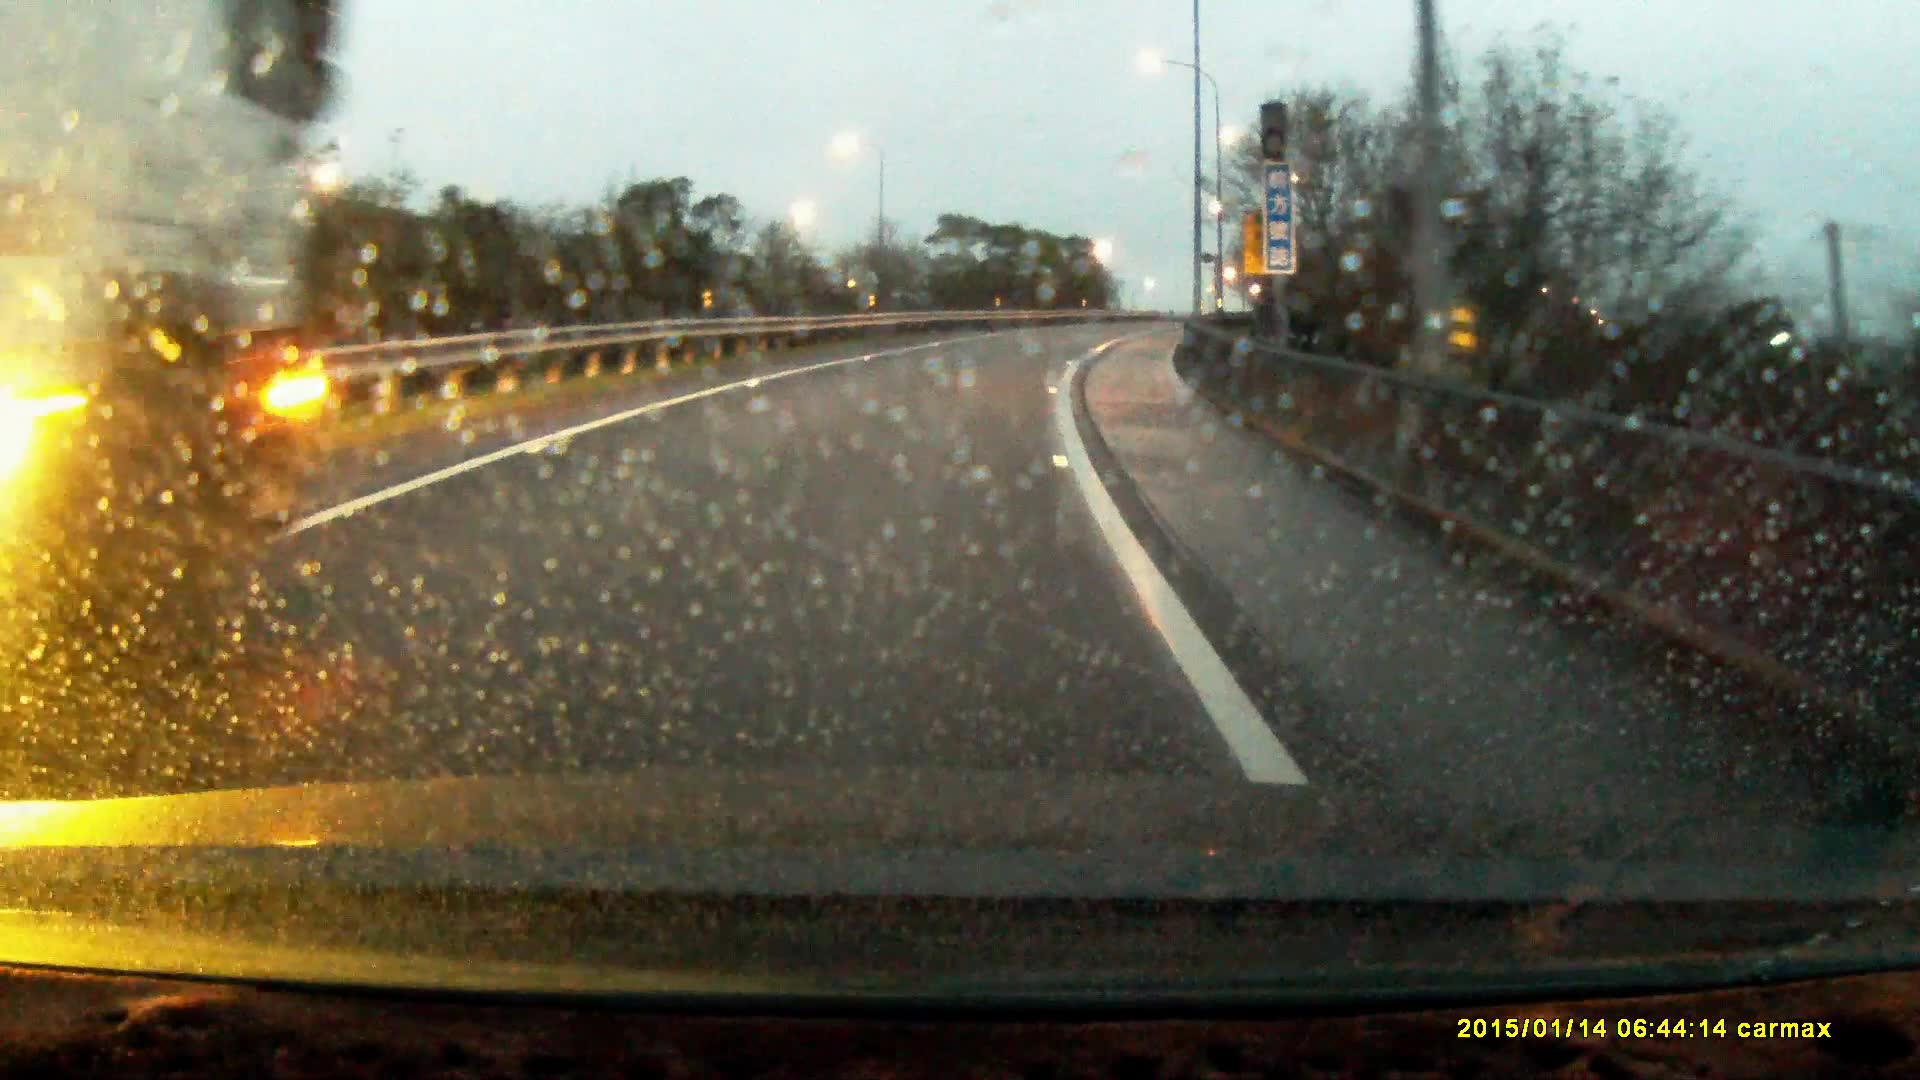vehicle: (1, 1, 327, 647)
